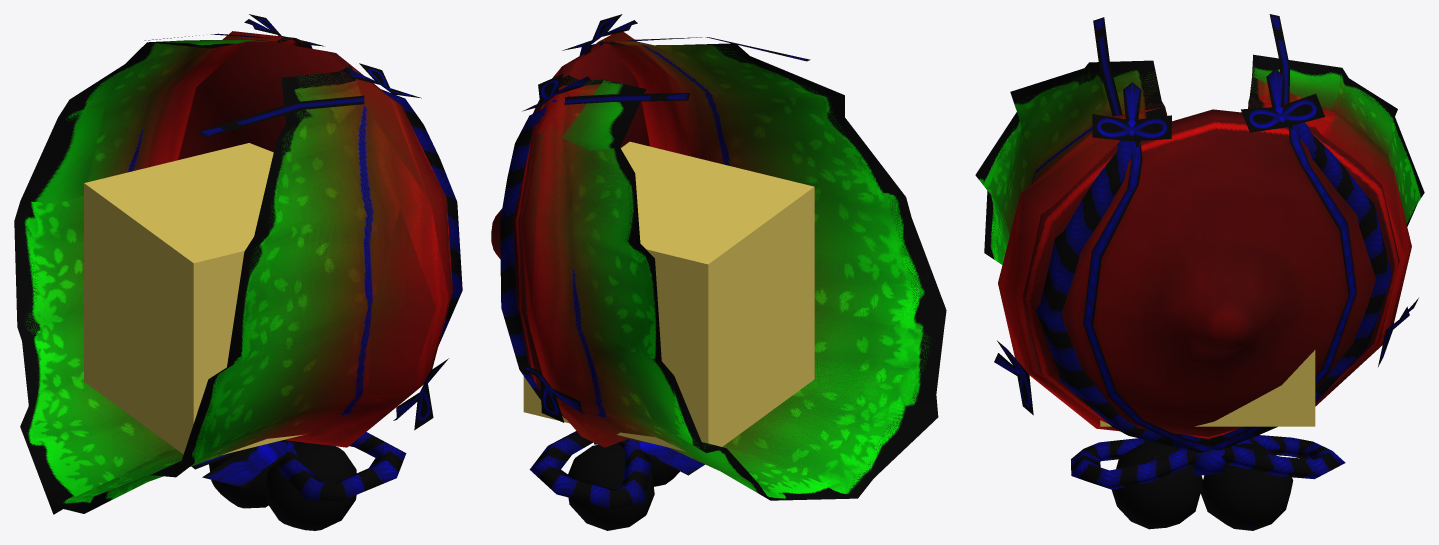
3 views of the same model, side by side, from view 1: azimuth 30°, elevation 25°; view 2: azimuth 150°, elevation 25°; view 3: azimuth 270°, elevation 25° (orthographic). The views are drawn at different scales.
Parts seen in each view (by area): view 1: object0005_L1186, object0076_Box; view 2: object0005_L1186, object0076_Box; view 3: object0005_L1186, object0076_Box.
Part boxes in pixels (left/top/right/bottom): object0005_L1186: left=14, top=14, right=462, bottom=530; object0076_Box: left=84, top=143, right=304, bottom=454; object0005_L1186: left=491, top=14, right=946, bottom=530; object0076_Box: left=523, top=141, right=814, bottom=451; object0005_L1186: left=975, top=14, right=1424, bottom=530; object0076_Box: left=1100, top=350, right=1315, bottom=426.
Bounding box in the file's own units: 0.8066 × 0.9615 × 0.8361.
